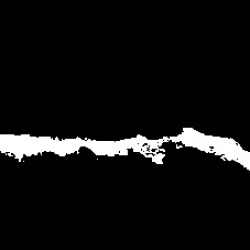crack: (3, 127, 249, 169)
